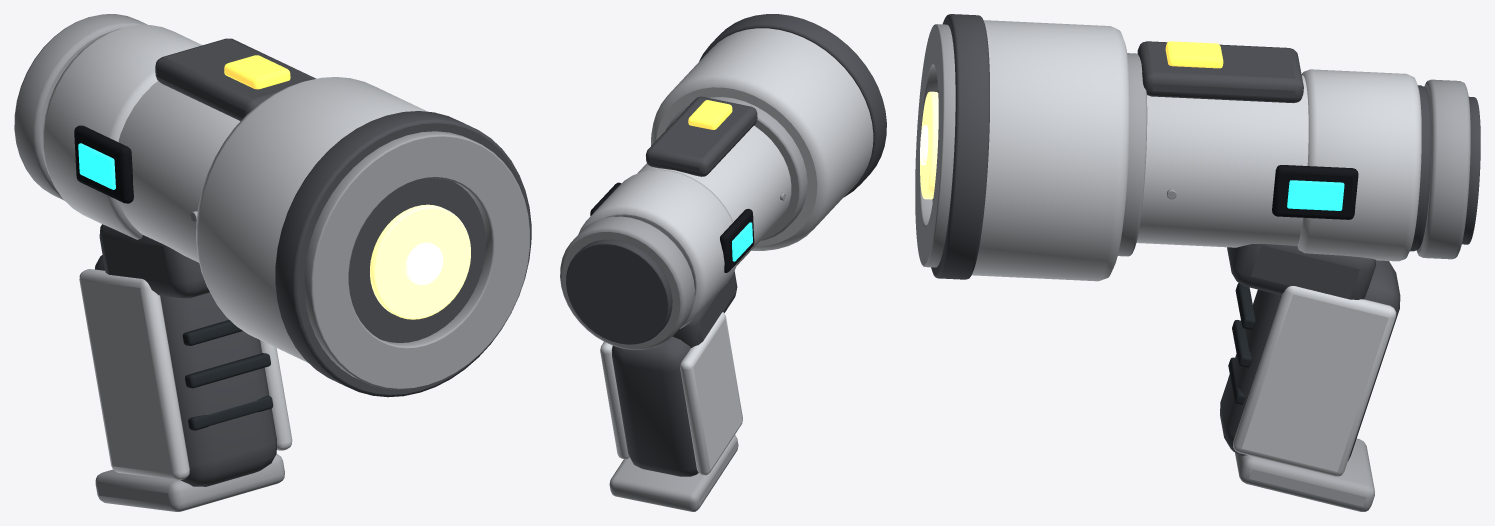
Rendered from CubeEscape_Flashlight_FPS.glb.
3 views of the same model, side by side, from view 1: azimuth 30°, elevation 25°; view 2: azimuth 150°, elevation 25°; view 3: azimuth 270°, elevation 25° (orthographic). The views are drawn at different scales.
Visible parts, largest first — view 1: SM_PG_ReflectorRim, SM_PG_HeadHousing, SM_PG_HeadFrontCollar, SM_PG_GripSideArmor_L, SM_PG_BatteryShell, SM_PG_GripCore, SM_PG_BodySleeve, SM_PG_Lens, SM_PG_RearCap, SM_PG_TopRail, SM_PG_GripHeel, SM_PG_GripMount (+8 smaller); view 2: SM_PG_HeadHousing, SM_PG_RearSeal, SM_PG_GripCore, SM_PG_BatteryShell, SM_PG_GripSideArmor_L, SM_PG_BodySleeve, SM_PG_RearCap, SM_PG_TopRail, SM_PG_HeadFrontCollar, SM_PG_GripHeel, SM_PG_BodyBand, SM_PG_GripMount (+4 smaller); view 3: SM_PG_HeadHousing, SM_PG_BodySleeve, SM_PG_GripSideArmor_R, SM_PG_BatteryShell, SM_PG_HeadFrontCollar, SM_PG_TopRail, SM_PG_RearCap, SM_PG_ReflectorRim, SM_PG_GripMount, SM_PG_GripHeel, SM_PG_GripCore, SM_PG_BodyBand (+7 smaller).
Part boxes in pixels (left/top/right/bottom): SM_PG_ReflectorRim: left=304, top=131, right=529, bottom=389; SM_PG_HeadHousing: left=196, top=77, right=427, bottom=362; SM_PG_HeadFrontCollar: left=275, top=111, right=531, bottom=397; SM_PG_GripSideArmor_L: left=79, top=269, right=189, bottom=480; SM_PG_BatteryShell: left=42, top=25, right=202, bottom=239; SM_PG_GripCore: left=95, top=255, right=276, bottom=486; SM_PG_BodySleeve: left=118, top=81, right=240, bottom=262; SM_PG_Lens: left=370, top=204, right=470, bottom=319; SM_PG_RearCap: left=14, top=14, right=147, bottom=200; SM_PG_TopRail: left=155, top=38, right=316, bottom=120; SM_PG_GripHeel: left=95, top=454, right=284, bottom=511; SM_PG_GripMount: left=99, top=224, right=209, bottom=298; SM_PG_HeadHousing: left=651, top=28, right=873, bottom=250; SM_PG_RearSeal: left=566, top=239, right=672, bottom=344; SM_PG_GripCore: left=611, top=336, right=698, bottom=476; SM_PG_BatteryShell: left=578, top=169, right=736, bottom=328; SM_PG_GripSideArmor_L: left=680, top=312, right=742, bottom=475; SM_PG_BodySleeve: left=637, top=126, right=791, bottom=265; SM_PG_RearCap: left=560, top=216, right=694, bottom=349; SM_PG_TopRail: left=645, top=96, right=757, bottom=176; SM_PG_HeadFrontCollar: left=699, top=14, right=886, bottom=197; SM_PG_GripHeel: left=609, top=435, right=738, bottom=511; SM_PG_BodyBand: left=666, top=97, right=807, bottom=241; SM_PG_GripMount: left=672, top=271, right=737, bottom=347; SM_PG_HeadHousing: left=972, top=20, right=1129, bottom=281; SM_PG_BodySleeve: left=1136, top=75, right=1308, bottom=247; SM_PG_GripSideArmor_R: left=1233, top=286, right=1396, bottom=476; SM_PG_BatteryShell: left=1297, top=69, right=1421, bottom=261; SM_PG_HeadFrontCollar: left=931, top=14, right=989, bottom=279; SM_PG_TopRail: left=1137, top=41, right=1303, bottom=103; SM_PG_RearCap: left=1416, top=79, right=1470, bottom=259; SM_PG_ReflectorRim: left=915, top=24, right=955, bottom=267; SM_PG_GripMount: left=1227, top=243, right=1375, bottom=299; SM_PG_GripHeel: left=1235, top=438, right=1374, bottom=511; SM_PG_GripCore: left=1220, top=260, right=1400, bottom=460; SM_PG_BodyBand: left=1118, top=53, right=1147, bottom=256.
Size of the model in its own units: 0.2649 by 0.5108 by 0.5507.
